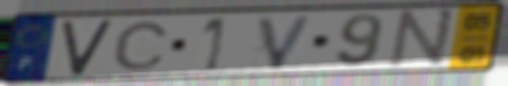1: (199, 15, 229, 73)
9: (332, 12, 386, 69)
C: (110, 20, 172, 73)
N: (385, 6, 458, 69)
V: (255, 13, 318, 72), (59, 17, 116, 78)
